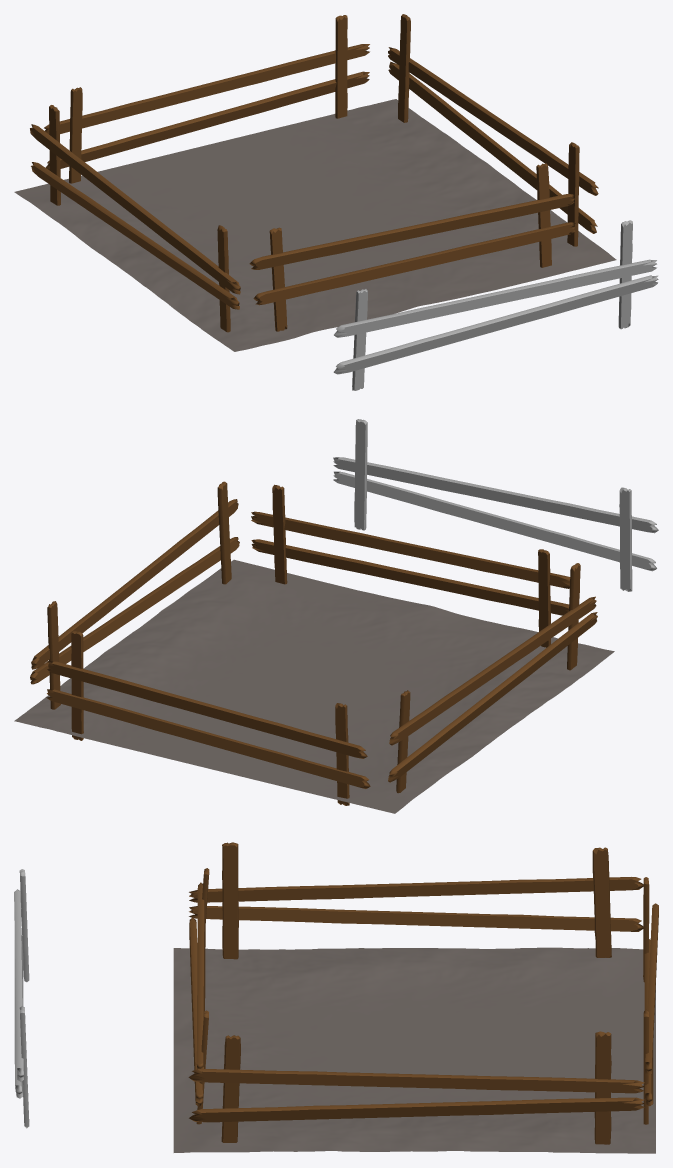
Rendered from tray.fbx.
3 renders of one model, top to bottom at view 1: azimuth 30°, elevation 25°; view 2: azimuth 150°, elevation 25°; view 3: azimuth 270°, elevation 25°, orthographic. The views are drawn at different scales.
Parts seen in each view (by area): view 1: pPlane1, pCube18, pCube8, pCube16, pCube15, pCube10, pCube1, pCube3, pCube4; view 2: pPlane1, pCube8, pCube18, pCube16, pCube15, pCube1, pCube10, pCube3, pCube4; view 3: pPlane1, pCube15, pCube16, pCube18, pCube8, pCube1, pCube4, pCube3, pCube10.
Boxes of the visible parts, bbox=[...] form: pPlane1: bbox=[14, 99, 616, 351]; pCube18: bbox=[249, 163, 575, 331]; pCube8: bbox=[44, 15, 369, 183]; pCube16: bbox=[30, 105, 240, 332]; pCube15: bbox=[388, 14, 598, 246]; pCube10: bbox=[333, 275, 658, 374]; pCube1: bbox=[334, 259, 656, 337]; pCube3: bbox=[618, 220, 632, 329]; pCube4: bbox=[352, 289, 367, 390]; pPlane1: bbox=[14, 559, 614, 813]; pCube8: bbox=[46, 631, 370, 805]; pCube18: bbox=[251, 484, 570, 647]; pCube16: bbox=[388, 563, 597, 793]; pCube15: bbox=[30, 481, 239, 709]; pCube1: bbox=[333, 457, 658, 533]; pCube10: bbox=[333, 471, 656, 571]; pCube3: bbox=[354, 419, 367, 530]; pCube4: bbox=[619, 487, 632, 591]; pPlane1: bbox=[173, 947, 655, 1153]; pCube15: bbox=[188, 1031, 644, 1144]; pCube16: bbox=[189, 842, 643, 959]; pCube18: bbox=[189, 868, 209, 1124]; pCube8: bbox=[643, 877, 658, 1124]; pCube1: bbox=[14, 889, 23, 1081]; pCube4: bbox=[19, 869, 29, 982]; pCube3: bbox=[19, 1006, 29, 1128]; pCube10: bbox=[14, 935, 23, 1098].
Size of the model in its own units: 25.37 by 7.22 by 33.91.
